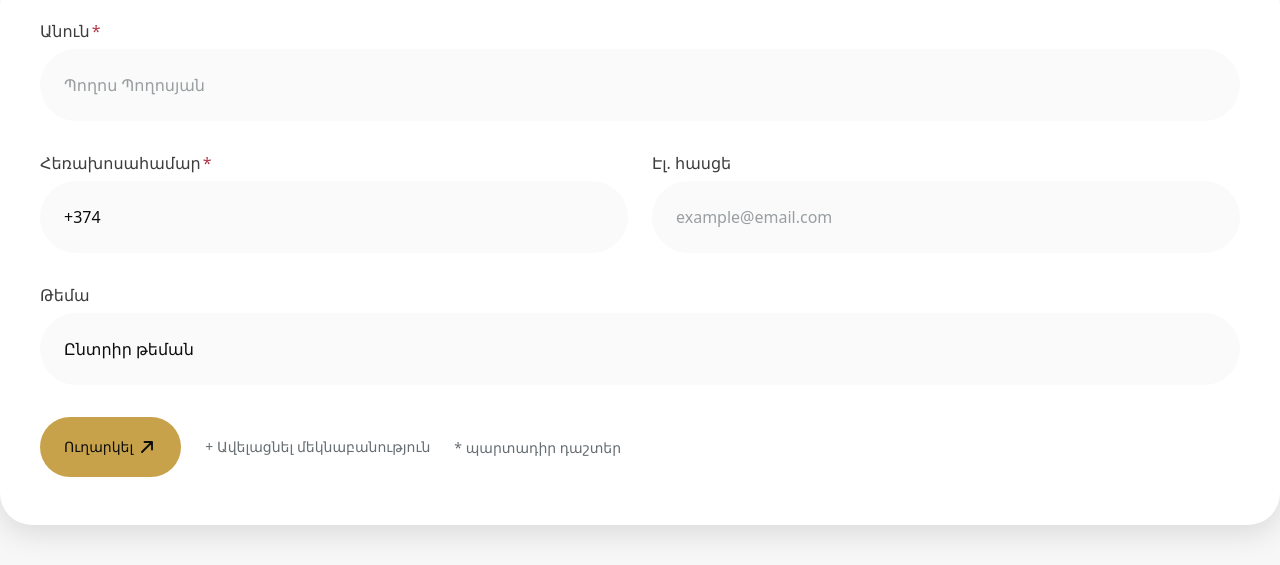
Scenario: ContactForm — required name & phone › shows the server’s field errors and does NOT show success when the API rejects the lead
This screenshot has width=1280, height=565.
Type "Anna" into the field labelled "Անուն*".
click(640, 85); type("Anna")  # box [40,49,1240,121]
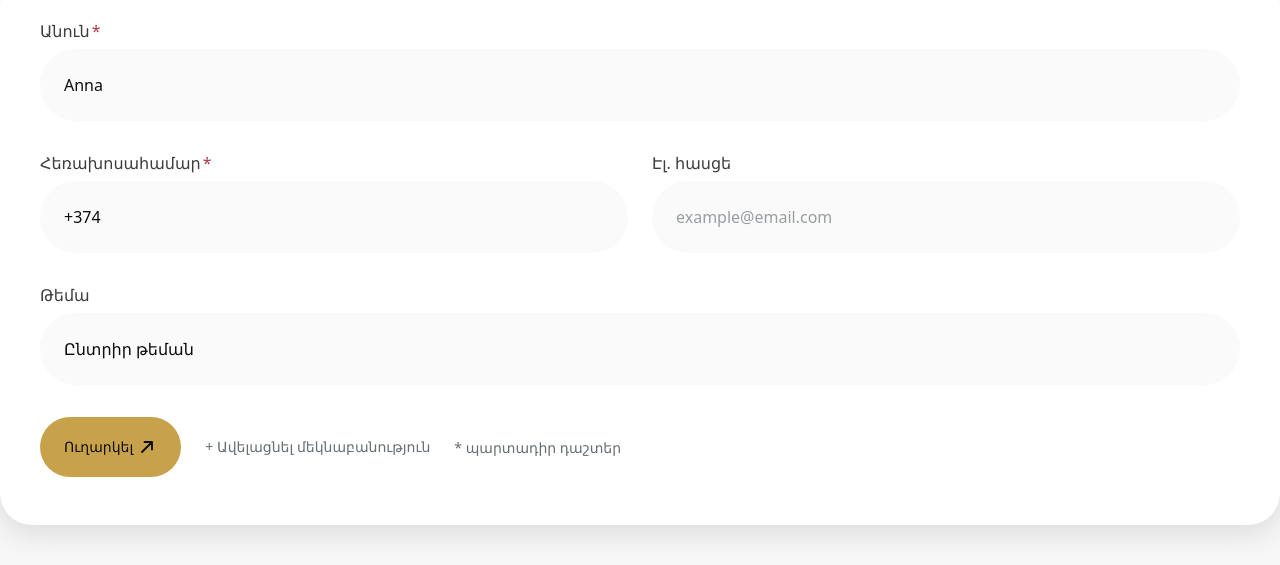
Replace the text in the field labelled "Հեռախոսահամար*" with "77123456" at (334, 217), box [40,181,628,253]
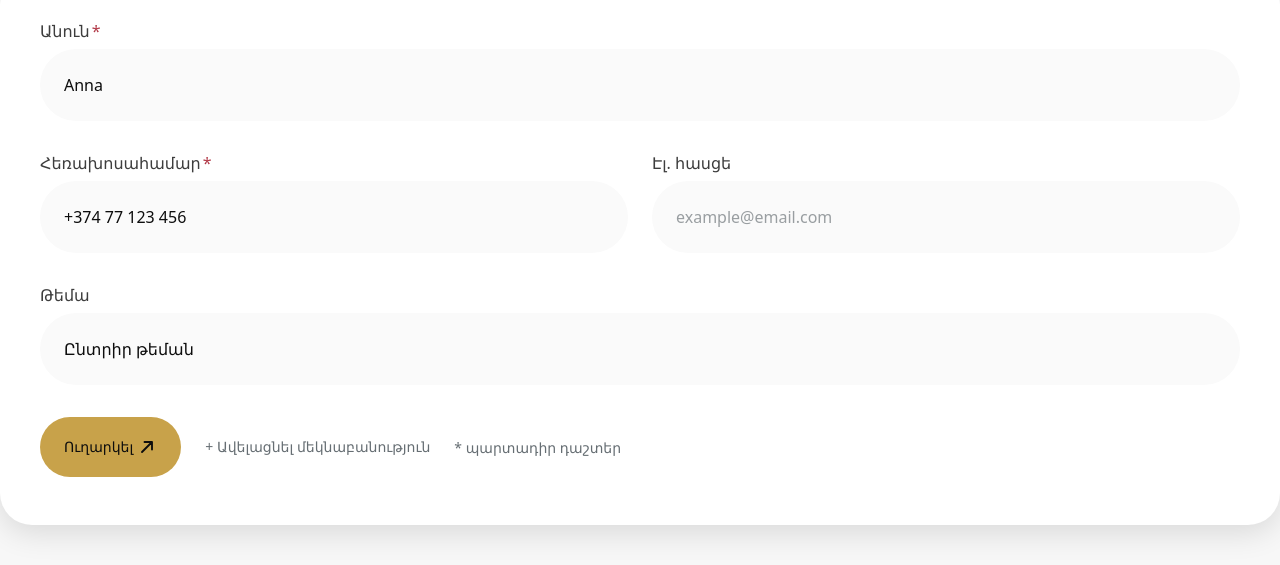
Click the button "Ուղարկել".
click(111, 447)  # box [40,417,181,477]
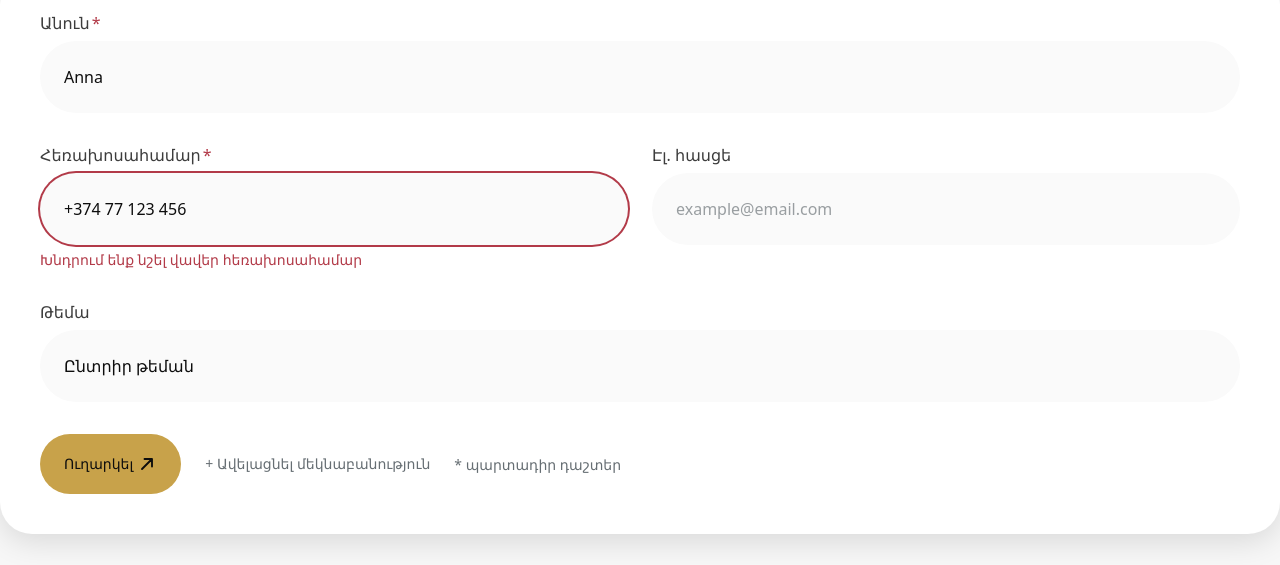
Now the text "Խնդրում ենք նշել վավեր հեռախոսահամար" is shown, box [40,250,362,269]
